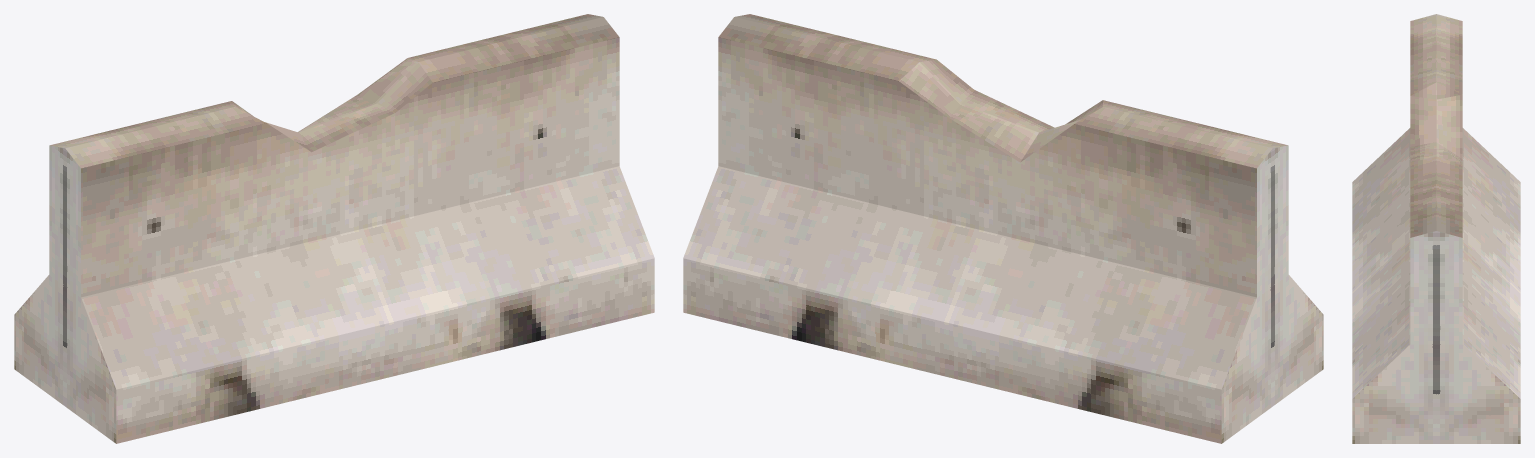
File: barrier3.glb
3 renders of one model, left to right at view 1: azimuth 30°, elevation 25°; view 2: azimuth 150°, elevation 25°; view 3: azimuth 270°, elevation 25°, orthographic. The views are drawn at different scales.
Parts seen in each view (by area): view 1: Jersey_barrier_broken_center_concrete_barriers_0; view 2: Jersey_barrier_broken_center_concrete_barriers_0; view 3: Jersey_barrier_broken_center_concrete_barriers_0.
Part boxes in pixels (bbox=[...]): Jersey_barrier_broken_center_concrete_barriers_0: bbox=[14, 14, 654, 443]; Jersey_barrier_broken_center_concrete_barriers_0: bbox=[683, 14, 1323, 443]; Jersey_barrier_broken_center_concrete_barriers_0: bbox=[1352, 14, 1520, 443].
Bounding box in the file's own units: 2.48 × 1.14 × 0.8144.
Materials: 1 (1 with a texture image).
